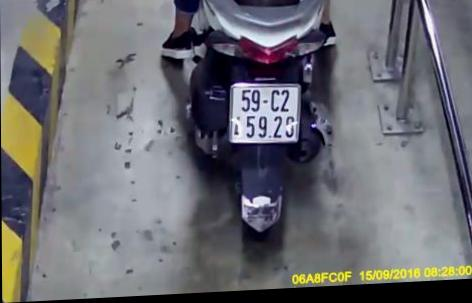License_Plate: (221, 77, 305, 153)
